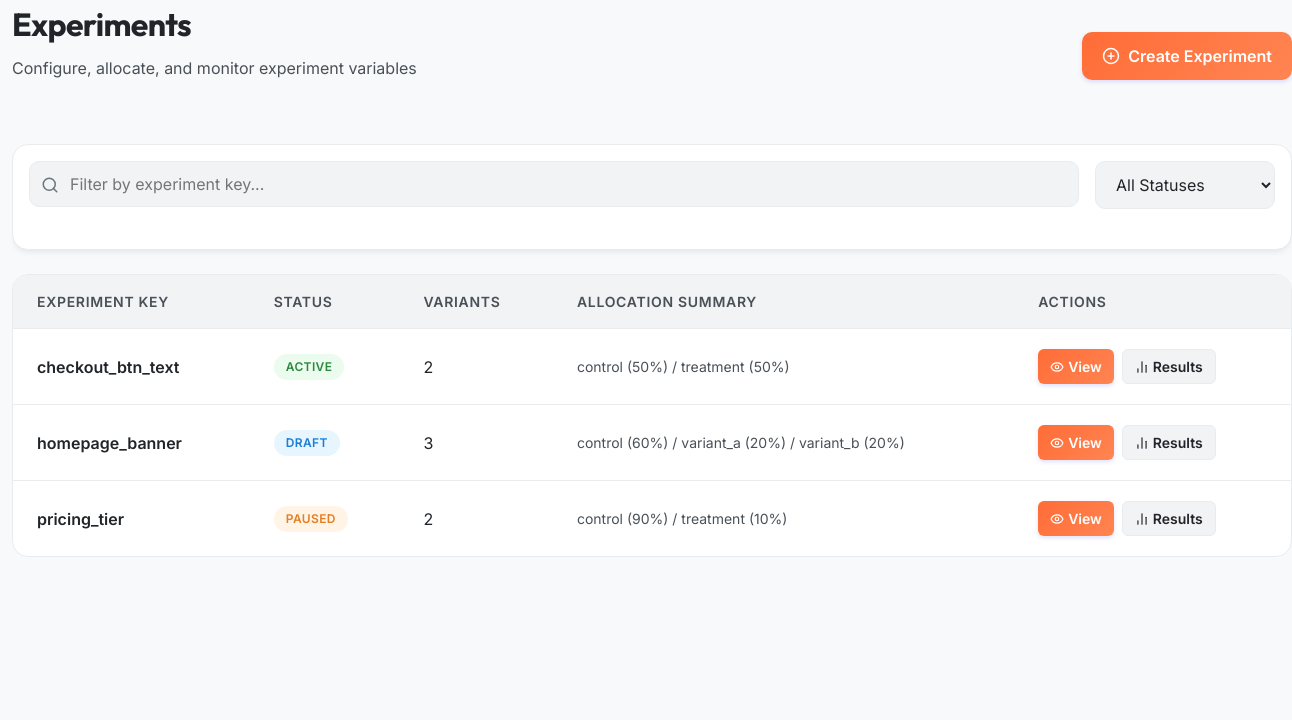
Test: Experiment List Page › should filter client-side by key search input
Expected: the table with test id "experiments-table" is shown, [13,275,1291,556]
Type "btn" into the field with test id "search-input" at x=554, y=184, box [29,161,1079,207]
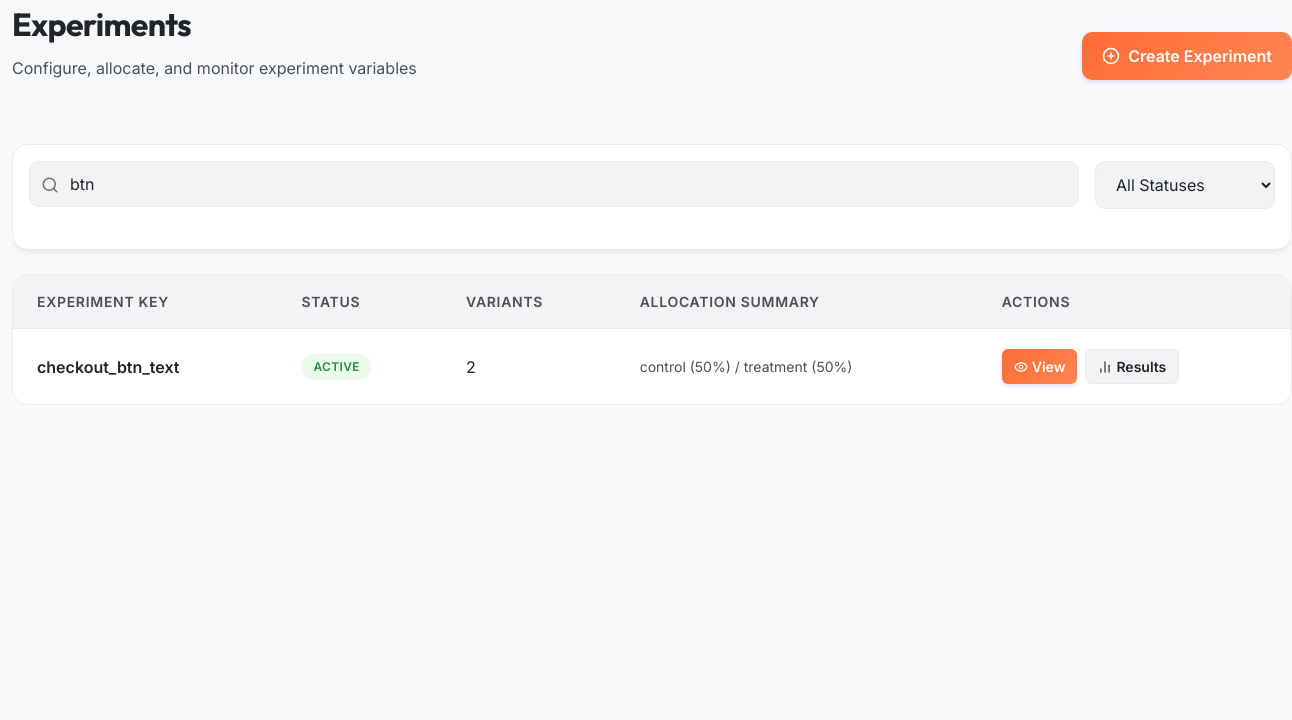
Expected: the text "checkout_btn_text" is shown, [13,328,278,404]
Now the text "homepage_banner" is gone
